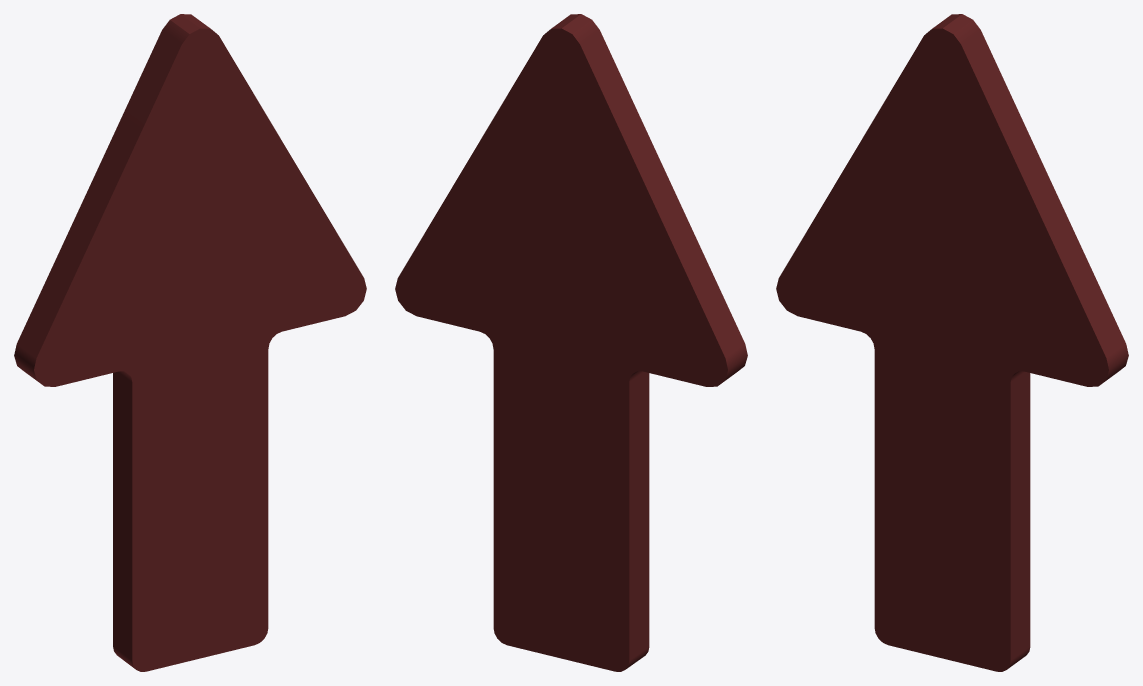
The model's file is chilli.glb.
The picture shows the model from 3 angles, left to right: view 1: azimuth 30°, elevation 25°; view 2: azimuth 150°, elevation 25°; view 3: azimuth 330°, elevation 25°; orthographic projection.
Parts seen in each view (by area): view 1: pCube1; view 2: pCube1; view 3: pCube1.
Part boxes in pixels (box(x1,y1,x2,y2)): pCube1: box(14, 14, 366, 671); pCube1: box(395, 14, 747, 671); pCube1: box(776, 14, 1128, 671).
Size of the model in its own units: 0.0975 by 0.1763 by 0.01.
